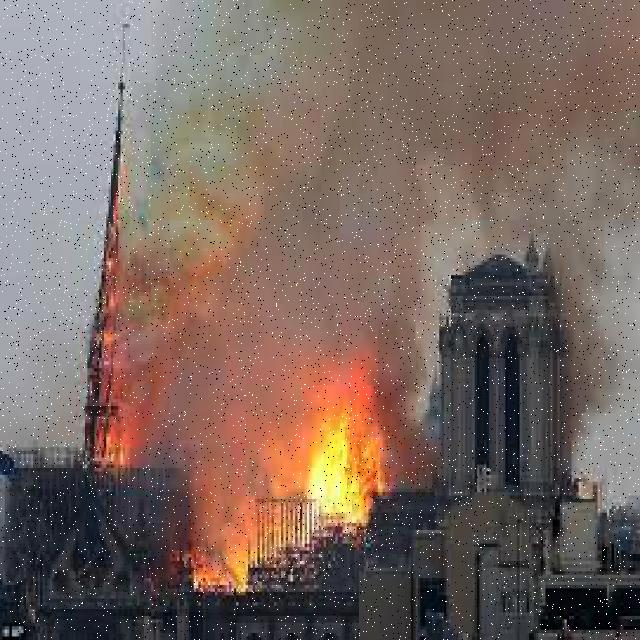fire: (308, 408, 384, 540)
smoke: (202, 28, 432, 384)
